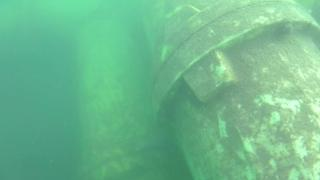pipe: (138, 1, 320, 180), (74, 12, 192, 180)
